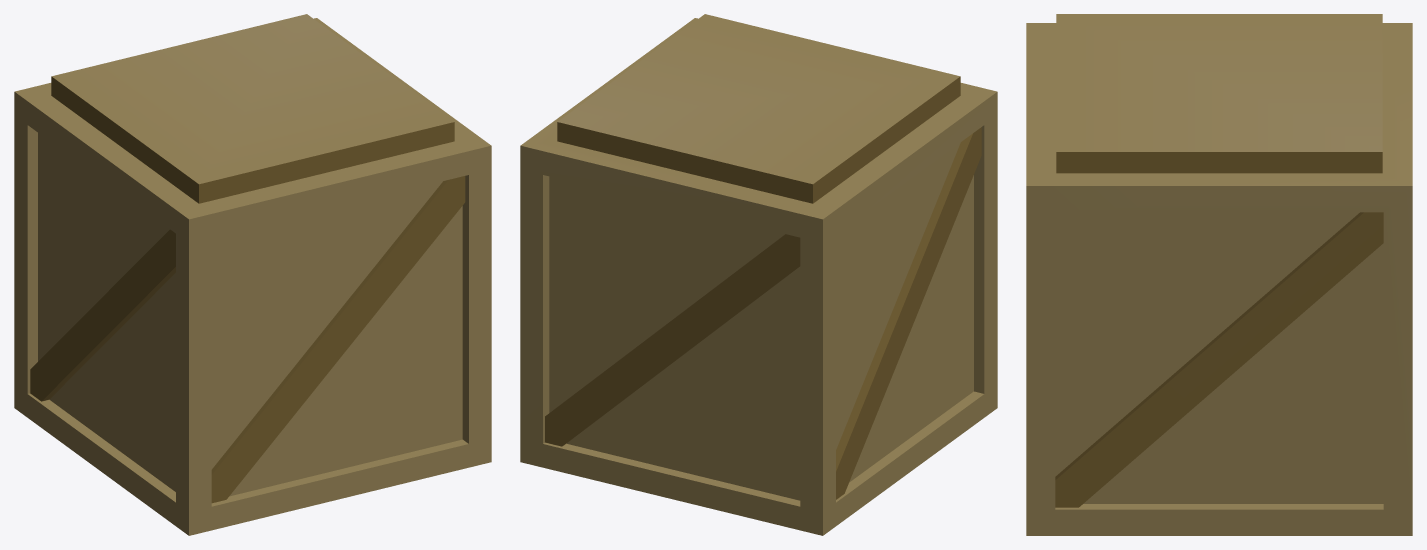
Rendered from CaixaMadeira.fbx.
3 views of the same model, side by side, from view 1: azimuth 30°, elevation 25°; view 2: azimuth 150°, elevation 25°; view 3: azimuth 270°, elevation 25° (orthographic). The views are drawn at different scales.
Visible parts, largest first — view 1: LOD_0; view 2: LOD_0; view 3: LOD_0.
Part boxes in pixels (x1,y1,x2,y2): LOD_0: [14, 14, 491, 535]; LOD_0: [520, 14, 997, 535]; LOD_0: [1026, 14, 1412, 535].
Size of what is drawn, in the model's own units: 140 by 149 by 140.
